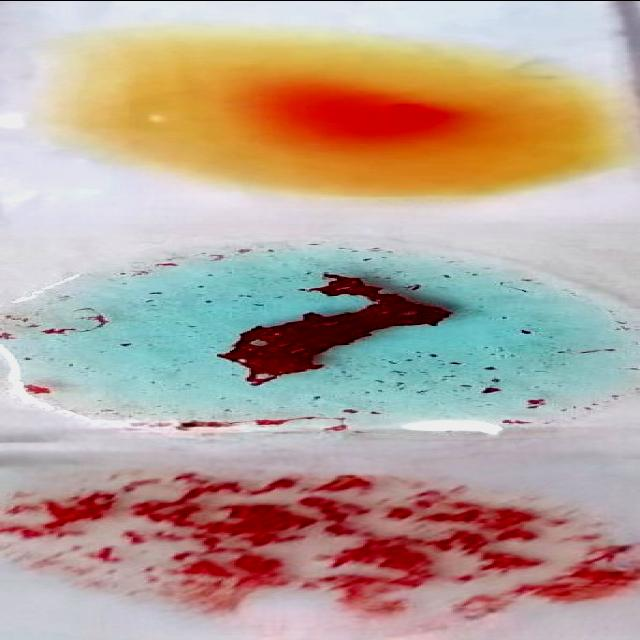A: (4, 244, 640, 434)
D: (0, 478, 640, 627)
